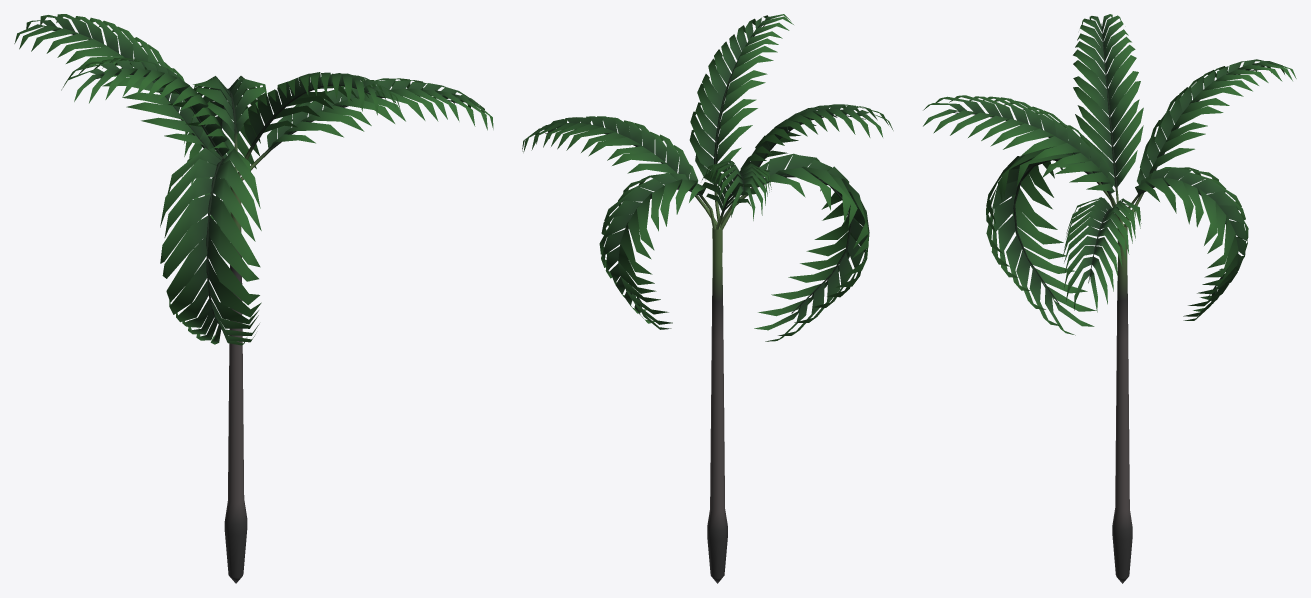
File: trees-palms-ferns-drooping-palm_v2.glb
The picture shows the model from 3 angles, left to right: view 1: azimuth 30°, elevation 25°; view 2: azimuth 150°, elevation 25°; view 3: azimuth 270°, elevation 25°; orthographic projection. The views are drawn at different scales.
Parts seen in each view (by area): view 1: Drooping Palm_v2; view 2: Drooping Palm_v2; view 3: Drooping Palm_v2.
Part boxes in pixels (left/top/right/bottom): Drooping Palm_v2: left=14, top=14, right=493, bottom=583; Drooping Palm_v2: left=522, top=14, right=893, bottom=583; Drooping Palm_v2: left=923, top=14, right=1296, bottom=583.
Size of the model in its own units: 7.74 by 10 by 6.78.
